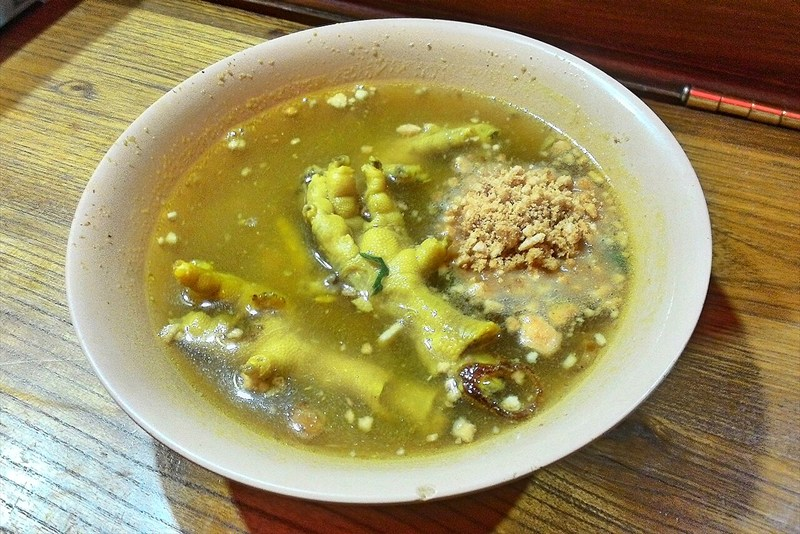Soto Ayam: (97, 17, 718, 513)
